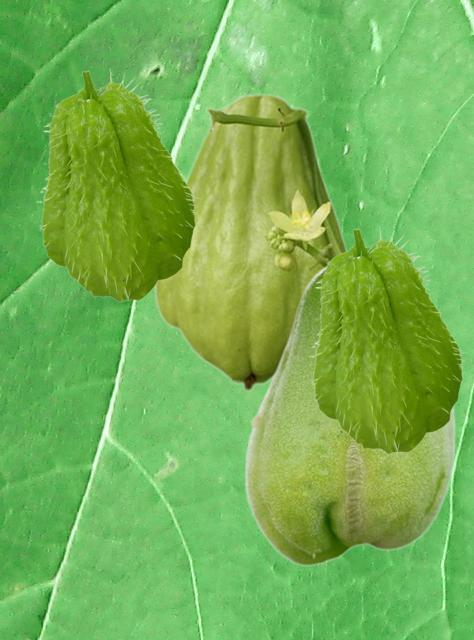sayote: (243, 263, 455, 565), (153, 93, 348, 391), (36, 67, 199, 301), (308, 225, 466, 453)
